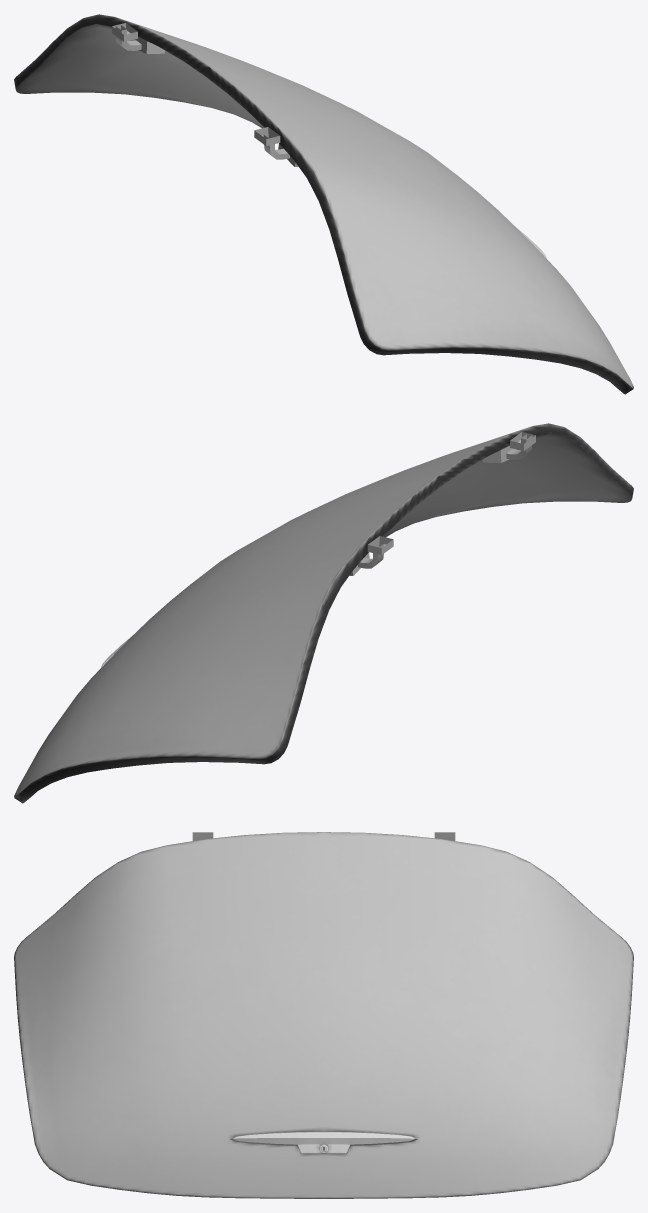
The model's file is SM_Classic_car03_Boot.fbx.
The picture shows the model from 3 angles, top to bottom: view 1: azimuth 30°, elevation 25°; view 2: azimuth 150°, elevation 25°; view 3: azimuth 270°, elevation 25°; orthographic projection. The views are drawn at different scales.
Parts seen in each view (by area): view 1: SM_Classic_car03_Boot_LOD0; view 2: SM_Classic_car03_Boot_LOD0; view 3: SM_Classic_car03_Boot_LOD0.
Boxes of the visible parts, x1=… form: SM_Classic_car03_Boot_LOD0: x1=14, y1=14, x2=633, y2=394; SM_Classic_car03_Boot_LOD0: x1=14, y1=423, x2=633, y2=803; SM_Classic_car03_Boot_LOD0: x1=14, y1=832, x2=633, y2=1198.
Bounding box in the file's own units: 74.2 × 142 × 60.97.
